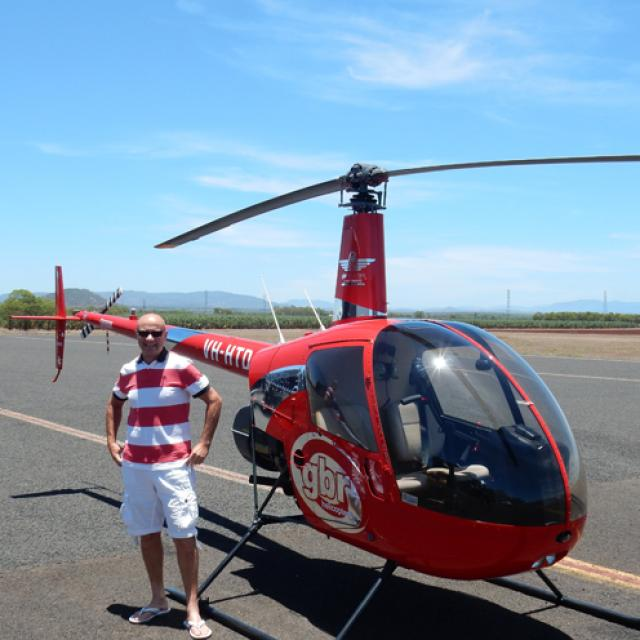helicopter: (14, 156, 640, 640)
